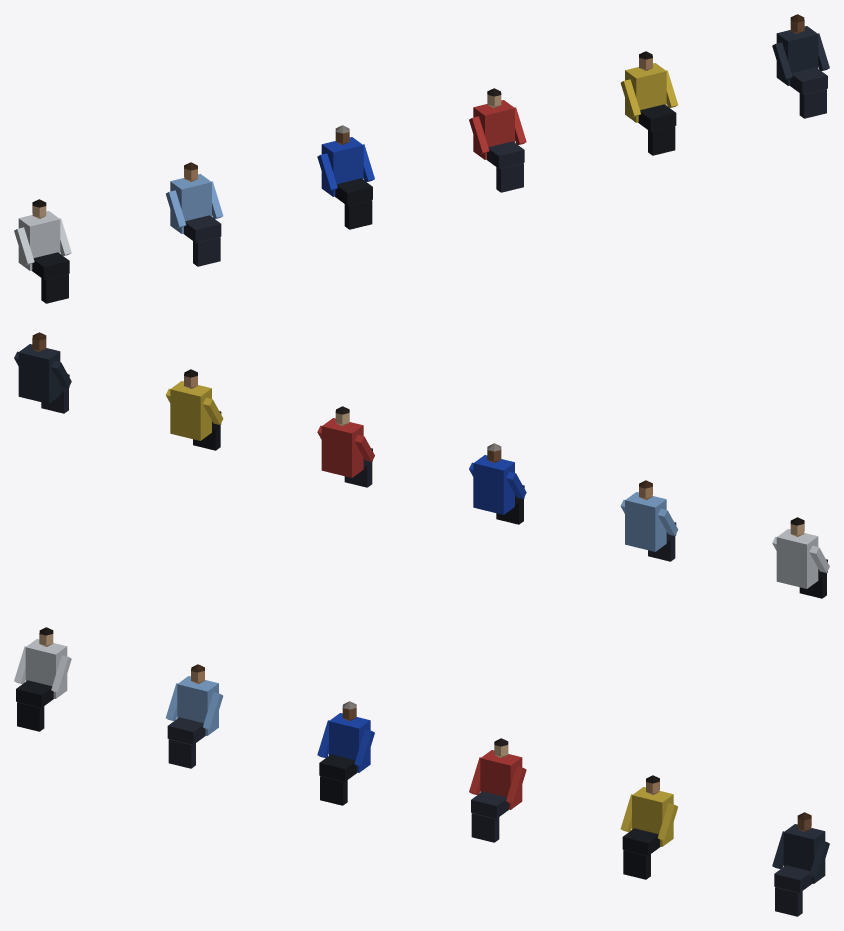
File: aura-crowd.glb
The picture shows the model from 3 angles, top to bottom: view 1: azimuth 30°, elevation 25°; view 2: azimuth 150°, elevation 25°; view 3: azimuth 330°, elevation 25°; orthographic projection.
Visible parts, largest first — view 1: CROWD_2, CROWD_0, CROWD_5, CROWD_3, CROWD_1, CROWD_4; view 2: CROWD_3, CROWD_5, CROWD_0, CROWD_2, CROWD_1, CROWD_4; view 3: CROWD_3, CROWD_0, CROWD_5, CROWD_2, CROWD_4, CROWD_1.
Part boxes in pixels (bbox=[...]): CROWD_2: bbox=[317, 125, 374, 229]; CROWD_0: bbox=[14, 199, 71, 303]; CROWD_5: bbox=[772, 14, 829, 118]; CROWD_3: bbox=[469, 88, 526, 192]; CROWD_1: bbox=[166, 162, 223, 266]; CROWD_4: bbox=[620, 51, 678, 155]; CROWD_3: bbox=[317, 406, 374, 487]; CROWD_5: bbox=[14, 332, 71, 413]; CROWD_0: bbox=[772, 517, 829, 598]; CROWD_2: bbox=[469, 443, 526, 524]; CROWD_1: bbox=[620, 480, 678, 561]; CROWD_4: bbox=[166, 369, 223, 450]; CROWD_3: bbox=[469, 738, 526, 842]; CROWD_0: bbox=[14, 627, 71, 731]; CROWD_5: bbox=[772, 812, 829, 916]; CROWD_2: bbox=[317, 701, 374, 805]; CROWD_4: bbox=[620, 775, 677, 879]; CROWD_1: bbox=[165, 664, 223, 768].
Bounding box in the file's own units: 10.58 × 1.12 × 0.545.
